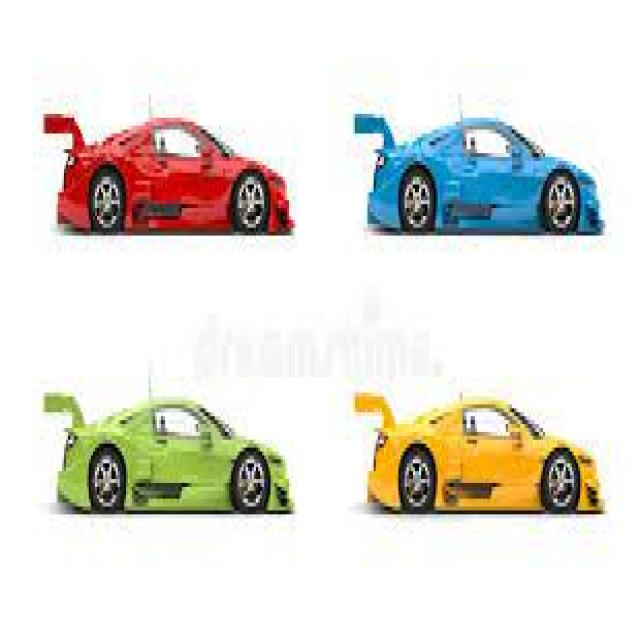Car: (353, 94, 605, 236), (42, 98, 296, 236), (41, 381, 293, 514), (353, 389, 605, 514)
